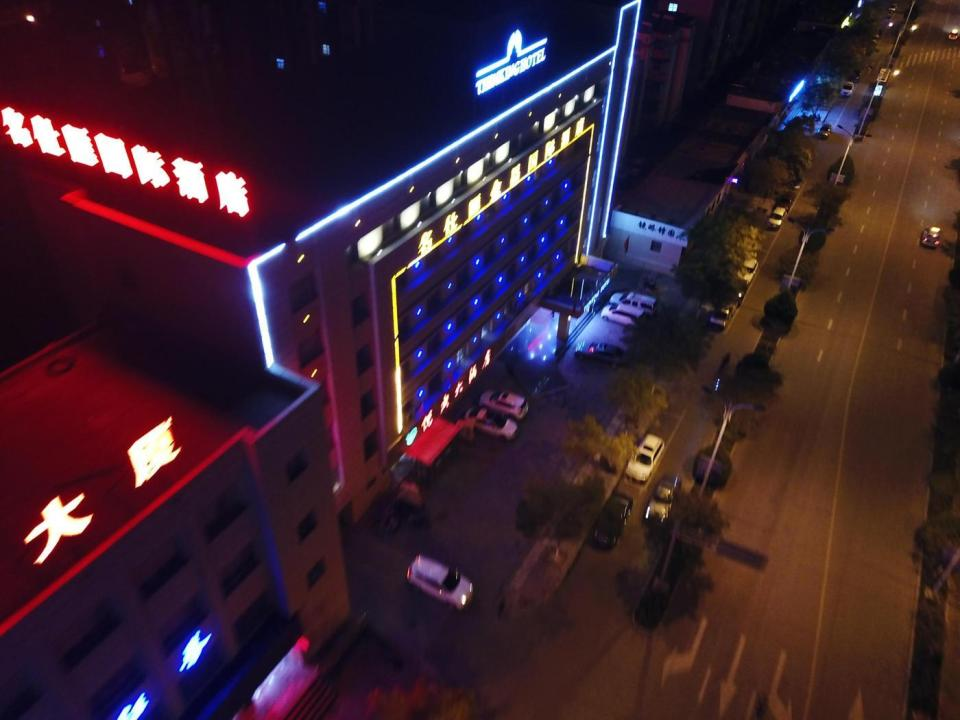car: (588, 492, 633, 550), (625, 433, 665, 483), (464, 406, 518, 442), (644, 474, 680, 526), (478, 389, 528, 420), (574, 340, 627, 368), (709, 302, 732, 330), (725, 278, 747, 304), (737, 256, 759, 282), (396, 490, 422, 508), (920, 226, 940, 248), (775, 190, 795, 211), (768, 206, 786, 228), (786, 167, 803, 189), (400, 480, 419, 494), (817, 124, 832, 138), (840, 81, 853, 96), (414, 517, 431, 527), (848, 69, 861, 82), (948, 29, 958, 39), (873, 27, 882, 38), (889, 1, 896, 11), (884, 12, 890, 20)
van: (406, 554, 472, 611), (610, 292, 658, 318), (602, 304, 646, 328), (624, 157, 644, 177)
